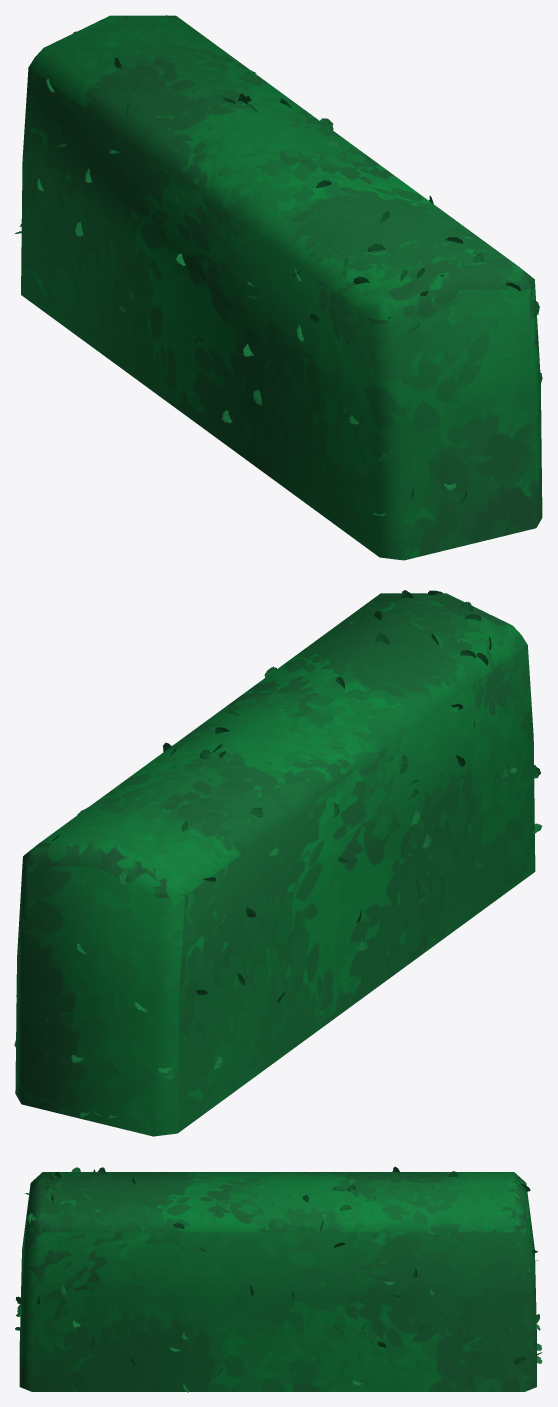
Rendered from semak1.fbx.
3 views of the same model, one above another, from view 1: azimuth 30°, elevation 25°; view 2: azimuth 150°, elevation 25°; view 3: azimuth 270°, elevation 25° (orthographic). The views are drawn at different scales.
Visible parts, largest first — view 1: Cube.004; view 2: Cube.004; view 3: Cube.004.
Boxes of the visible parts, <box> form: Cube.004: <box>15,15,542,560</box>; Cube.004: <box>14,590,542,1136</box>; Cube.004: <box>15,1166,542,1392</box>.
Size of the model in its own units: 1.44 by 2.09 by 5.35.
